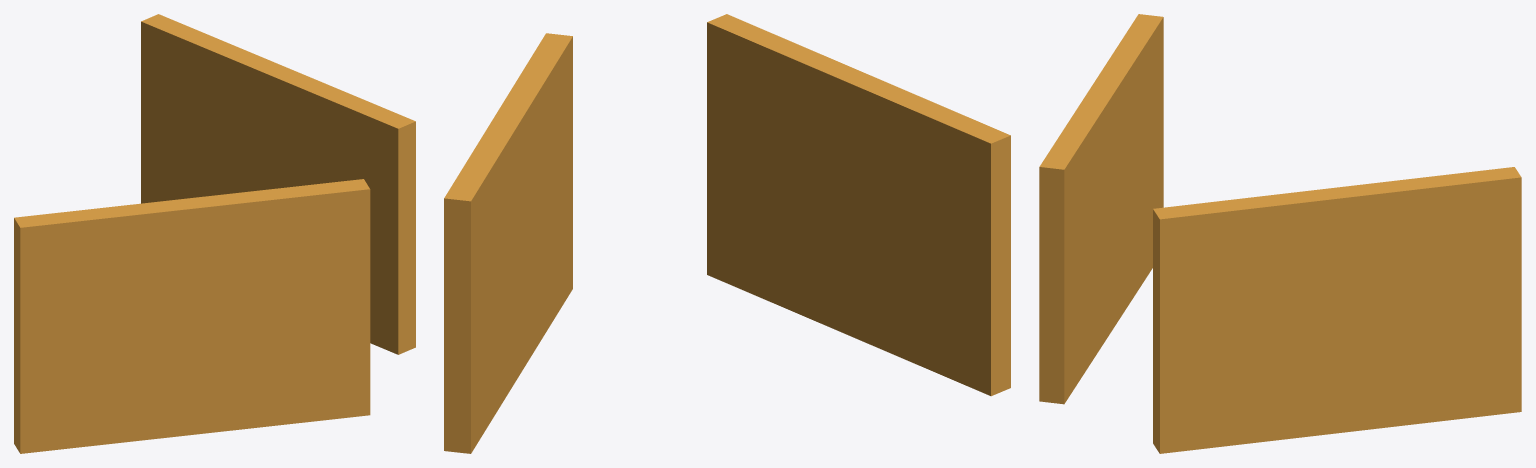
The model's file is bridge-pillars-large-curve.glb.
3 renders of one model, left to right at view 1: azimuth 30°, elevation 25°; view 2: azimuth 150°, elevation 25°; view 3: azimuth 270°, elevation 25°, orthographic. The views are drawn at different scales.
Parts seen in each view (by area): view 1: bridge-pillars-large-curve; view 2: bridge-pillars-large-curve; view 3: bridge-pillars-large-curve.
Part boxes in pixels (x1,y1,x2,y2): bridge-pillars-large-curve: [14, 14, 415, 453]; bridge-pillars-large-curve: [444, 14, 1010, 453]; bridge-pillars-large-curve: [1039, 14, 1521, 453].
Bounding box in the file's own units: 18.78 × 10 × 18.63.
